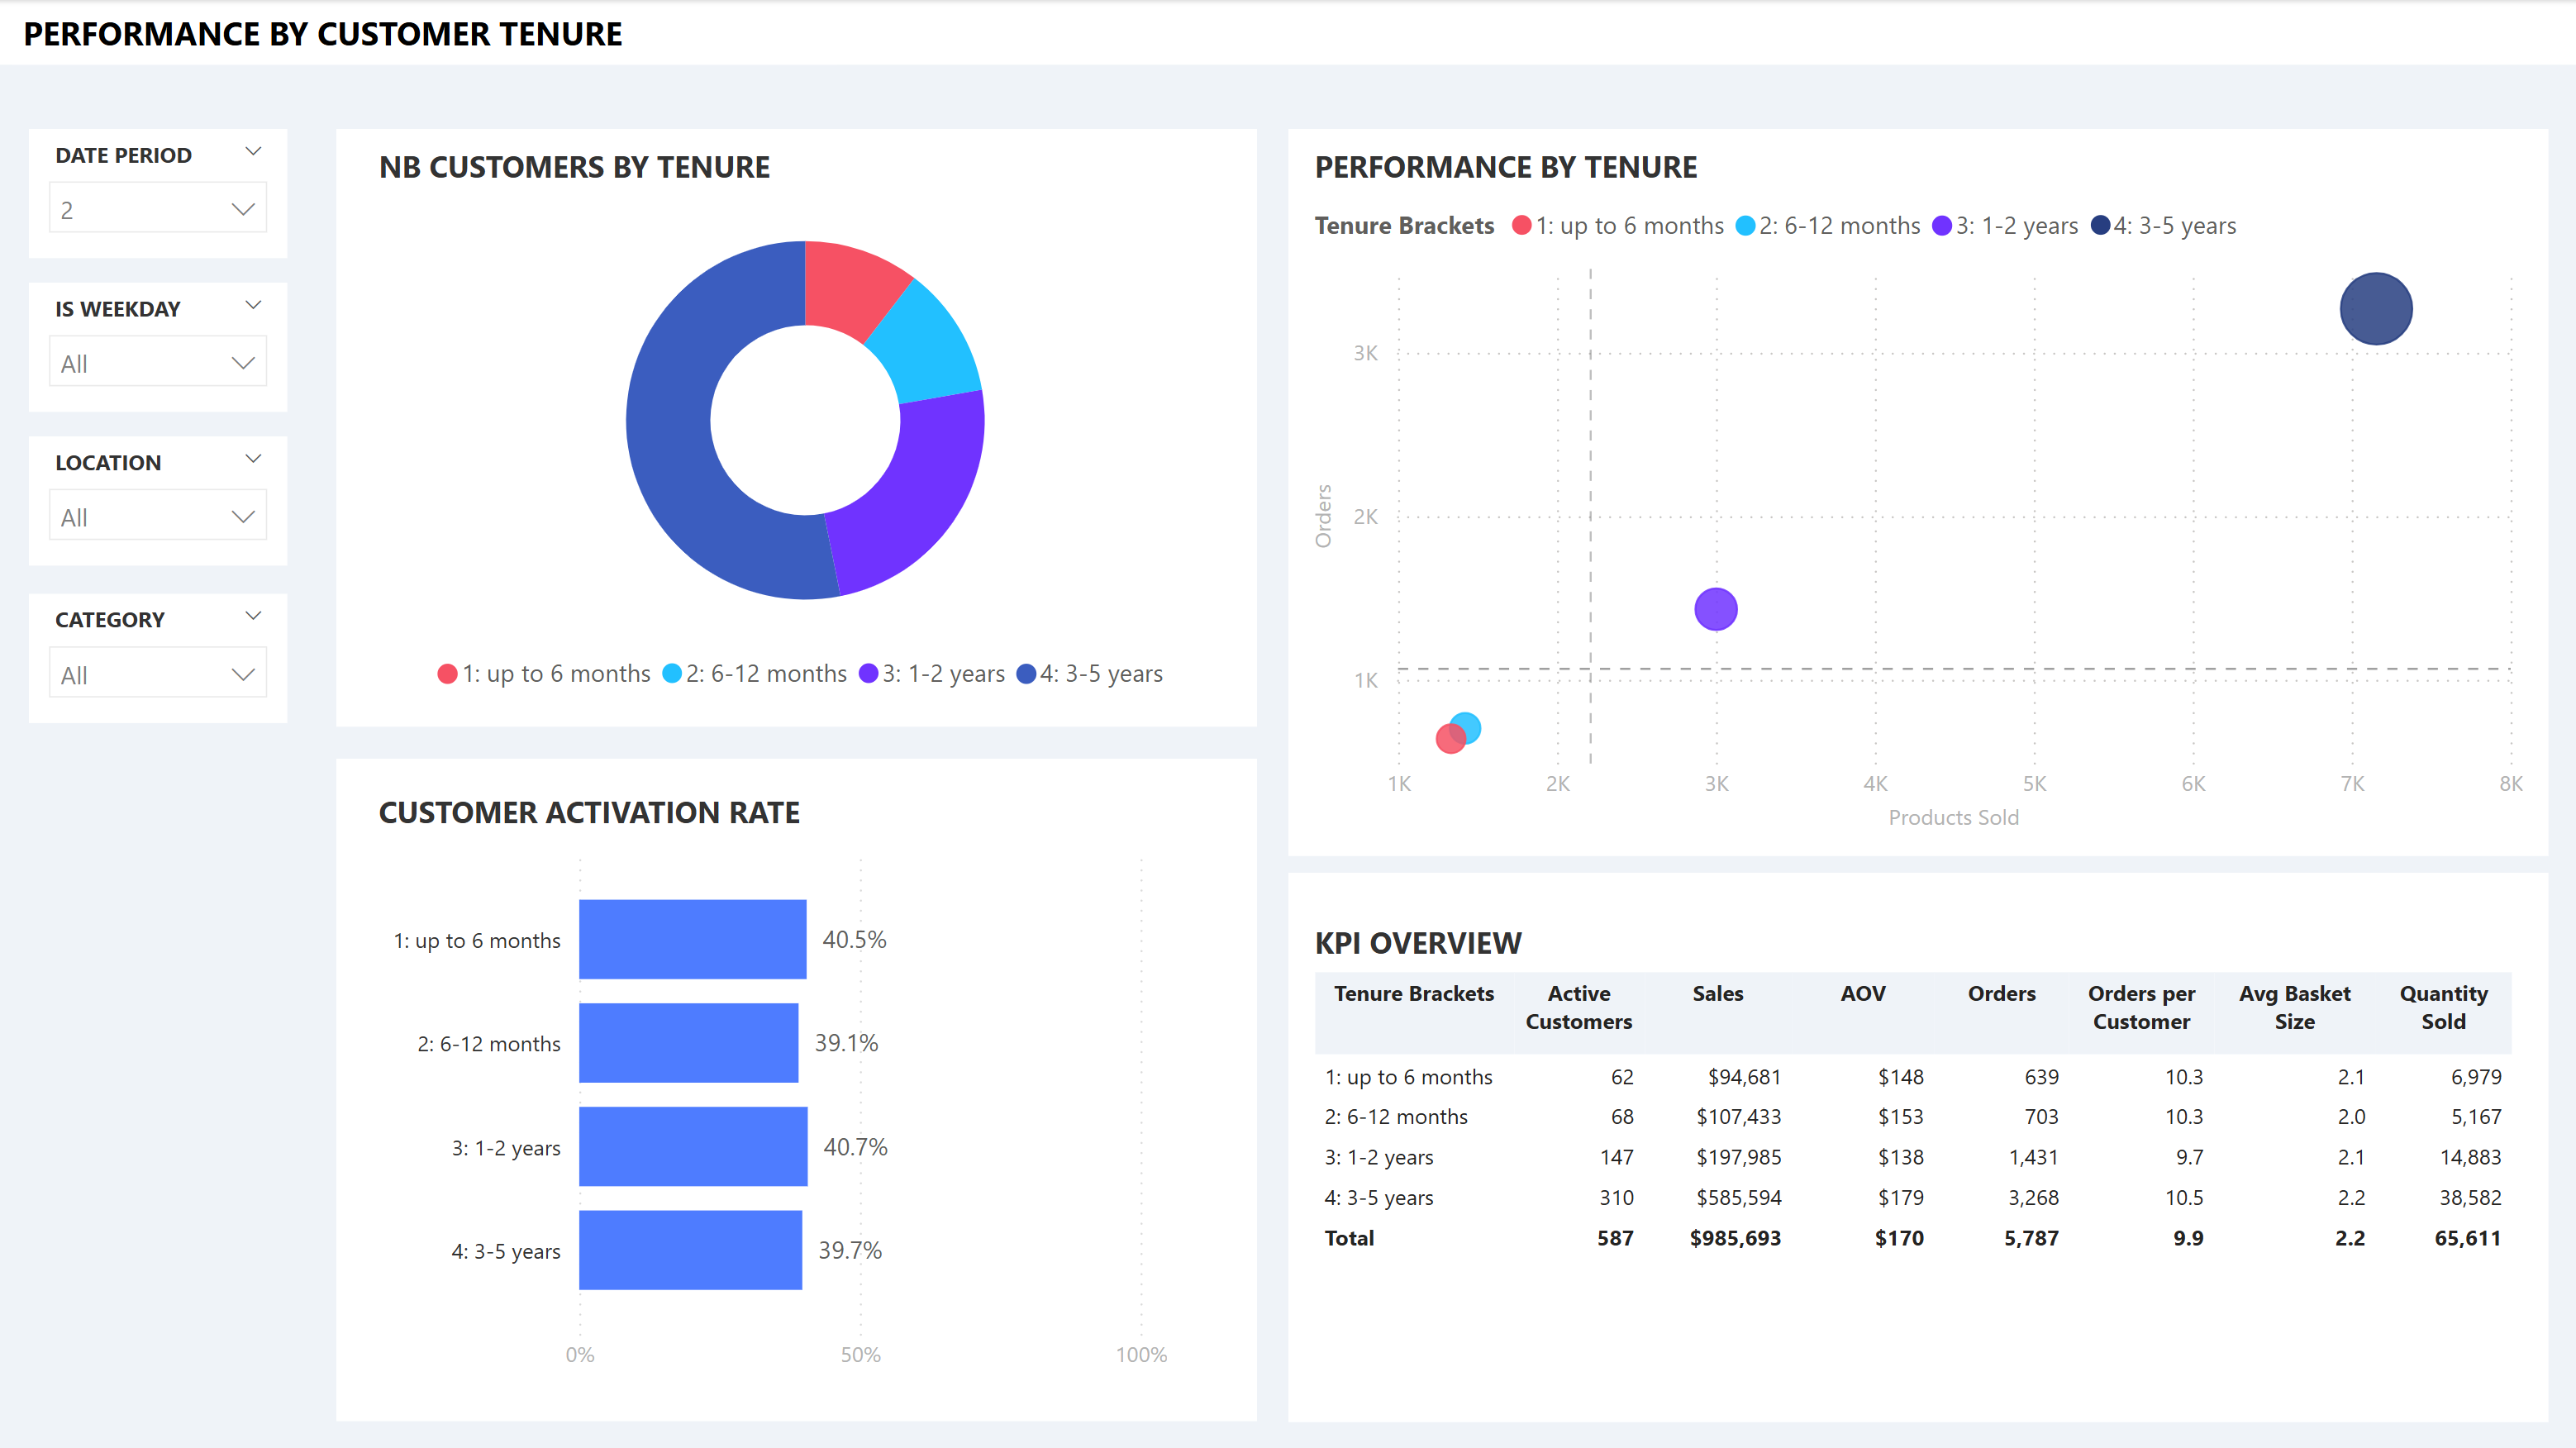

What the dashboard file says about the page in this screenshot:
{"tool":"powerbi","page":{"name":"Tenure","canvas":[1280,720],"ordinal":3},"visuals":[{"type":"shape","box":[0,0,1280,32],"z":0},{"type":"shape","box":[640,64,624,360],"z":1000},{"type":"shape","box":[168,376,456,328],"z":2000},{"type":"shape","box":[168,64,456,296],"z":3000},{"type":"slicer","fields":{"Values":["Date.Quarter","Date.Month Name"]},"box":[16,64,128,64],"z":4000},{"type":"slicer","fields":{"Values":["Date.Is Weekend"]},"box":[16.2,139.7,128,64],"z":5000},{"type":"slicer","fields":{"Values":["F_Online_Sales.Product_Category"]},"box":[16.2,294.4,128,64],"z":6000},{"type":"clusteredBarChart","title":"CUSTOMER ACTIVATION RATE","fields":{"Category":["D_Customers.Tenure Intervals"],"Y":["Measures_Table.% Active Customer Base"]},"box":[184,392,400,296],"z":7000},{"type":"scatterChart","title":"PERFORMANCE BY TENURE","fields":{"Y":["Measures_Table.Orders"],"X":["Measures_Table.Products Sold"],"Size":["Measures_Table.Sales"],"Series":["D_Customers.Tenure Intervals"]},"box":[648,72,608,344],"z":8000},{"type":"donutChart","title":"NB CUSTOMERS BY TENURE","fields":{"Y":["Measures_Table.All Customers"],"Category":["D_Customers.Tenure Intervals"]},"box":[184,72,432,280],"z":9000},{"type":"shape","box":[640,432,624,272],"z":10000},{"type":"pivotTable","title":"KPI OVERVIEW","fields":{"Values":["Measures_Table.Active Customers","Measures_Table.Sales Amount","Measures_Table.AOV","Measures_Table.Orders","Measures_Table.Orders per Customer","Measures_Table.Avg Basket Size","Measures_Table.Quantity Sold"],"Rows":["D_Customers.Tenure Intervals"]},"box":[648,456,608,232],"z":11000},{"type":"slicer","fields":{"Values":["D_Customers.Location"]},"box":[16,216,128,64],"z":13000},{"type":"textbox","box":[8,0,408,32],"z":14000}]}

Visuals, with their boxes in screenshot pixels (x1, y1, x2, y2), scaled from the page's 1280x720 canvas onto the 2576x1448 screenshot:
shape: x1=0 y1=0 x2=2575 y2=64
shape: x1=1288 y1=129 x2=2544 y2=853
shape: x1=338 y1=756 x2=1256 y2=1416
shape: x1=338 y1=129 x2=1256 y2=724
slicer - Date.Quarter x Date.Month Name: x1=32 y1=129 x2=290 y2=257
slicer - Date.Is Weekend: x1=32 y1=281 x2=290 y2=410
slicer - F_Online_Sales.Product_Category: x1=32 y1=592 x2=290 y2=721
"CUSTOMER ACTIVATION RATE" clusteredBarChart: x1=370 y1=788 x2=1175 y2=1384
"PERFORMANCE BY TENURE" scatterChart: x1=1304 y1=145 x2=2528 y2=836
"NB CUSTOMERS BY TENURE" donutChart: x1=370 y1=145 x2=1240 y2=708
shape: x1=1288 y1=869 x2=2544 y2=1416
"KPI OVERVIEW" pivotTable: x1=1304 y1=917 x2=2528 y2=1384
slicer - D_Customers.Location: x1=32 y1=435 x2=290 y2=563
textbox: x1=16 y1=0 x2=837 y2=64
